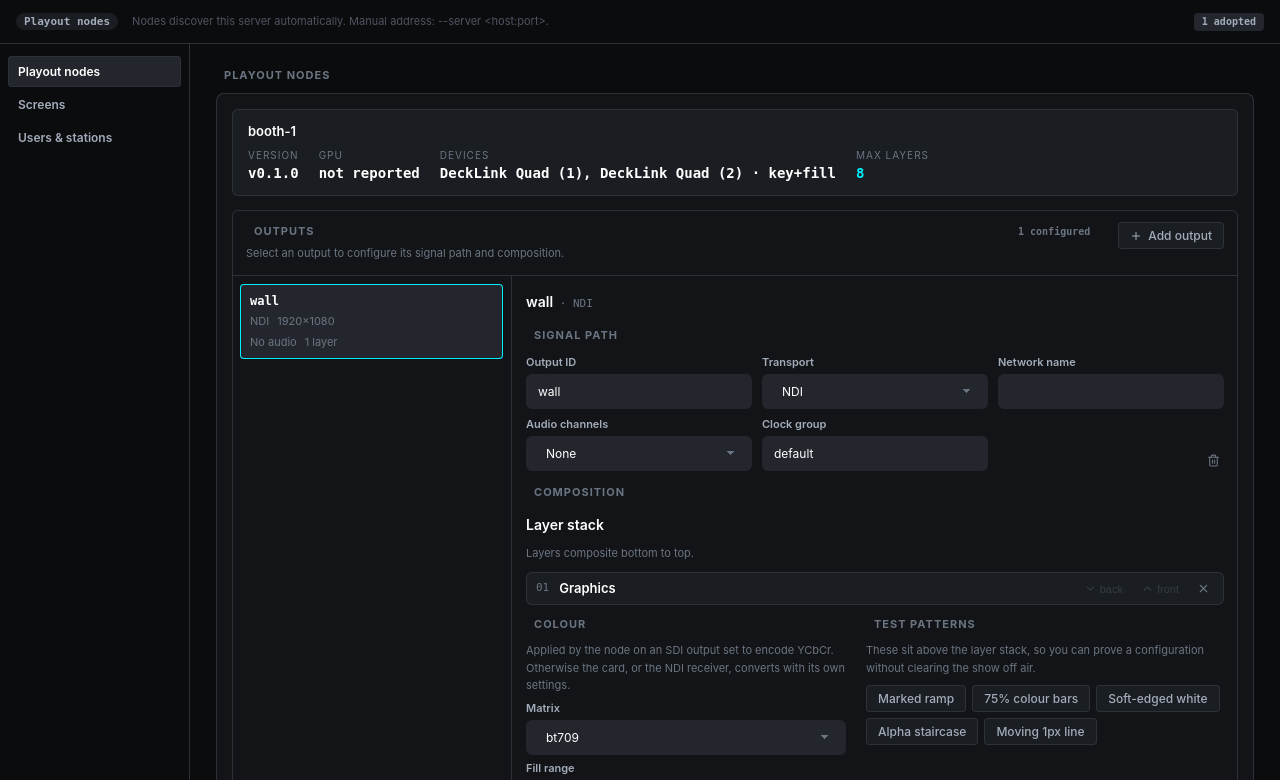
Test case: the rail switches sections, and starts on the nodes
Expected: the text "booth-1" is shown, [248,125,296,138]
Click the button "Users & stations" at x=94, y=138, box [8,122,181,153]
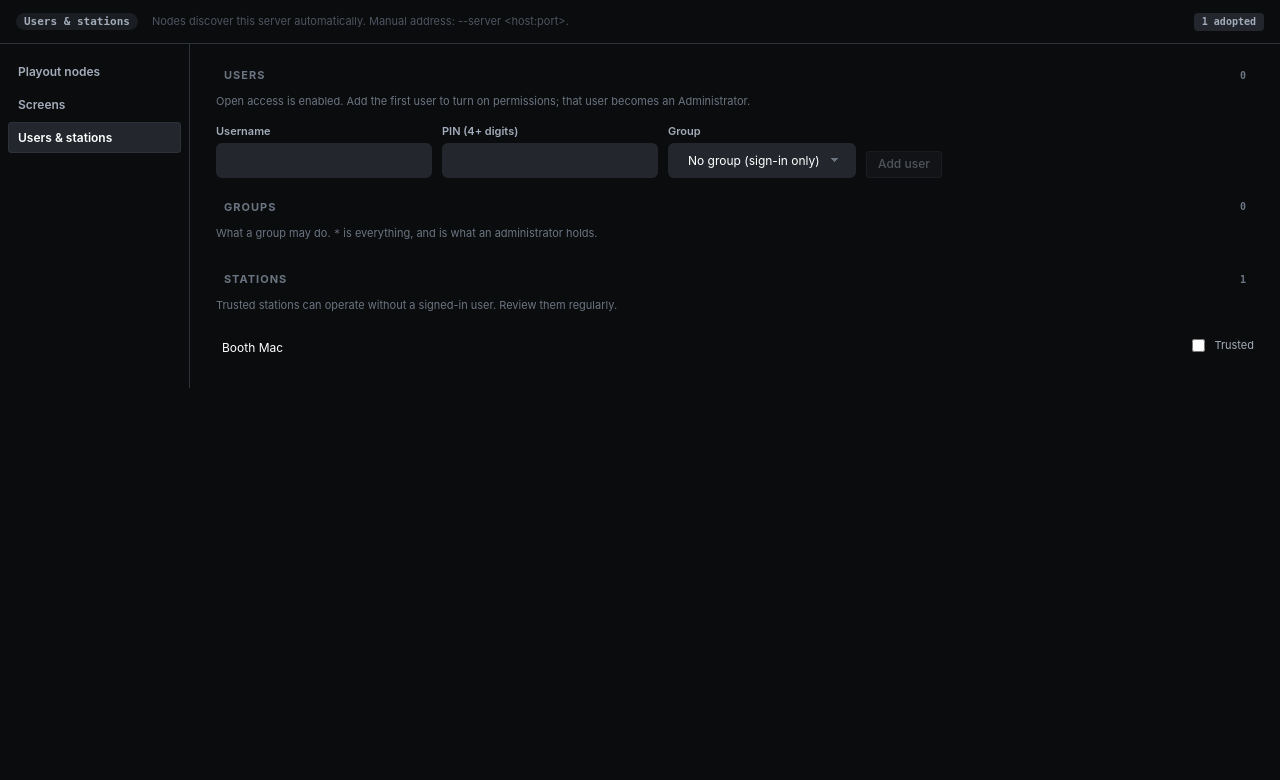
Expected: the element "Stations" is shown, [216,270,1254,366]
Expected: the text "booth-1" is gone
